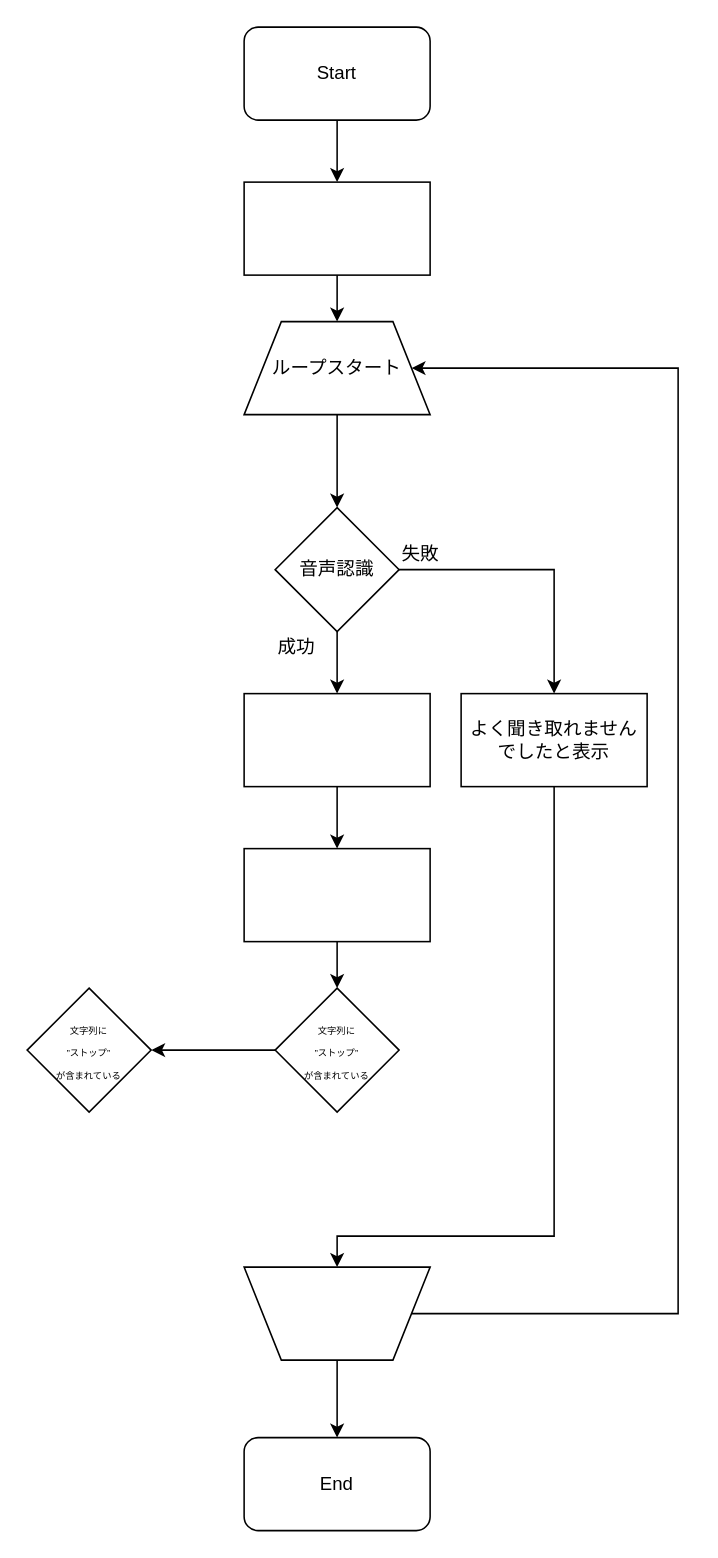
Image size: 718x1558. Some labels were removed from this diagram. Each missing label, with the centre of its shape:
"Library import" belongs at point 336,228.
"ノイズ削除 文字列データに変換" belongs at point 336,739.
"ループエンド" belongs at point 336,1313.
"文字列の形態素分析" belongs at point 336,894.
